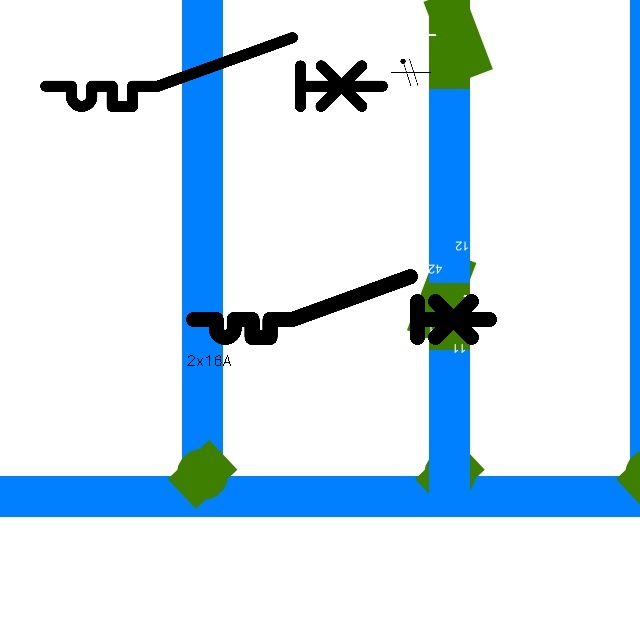interruptor_termomagnetico: (37, 29, 391, 115), (186, 269, 497, 345)
